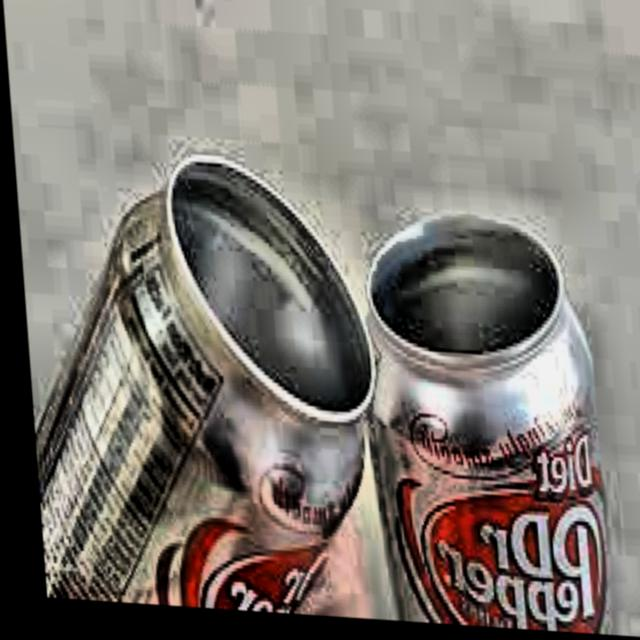can: (22, 167, 363, 624), (352, 212, 590, 636)
